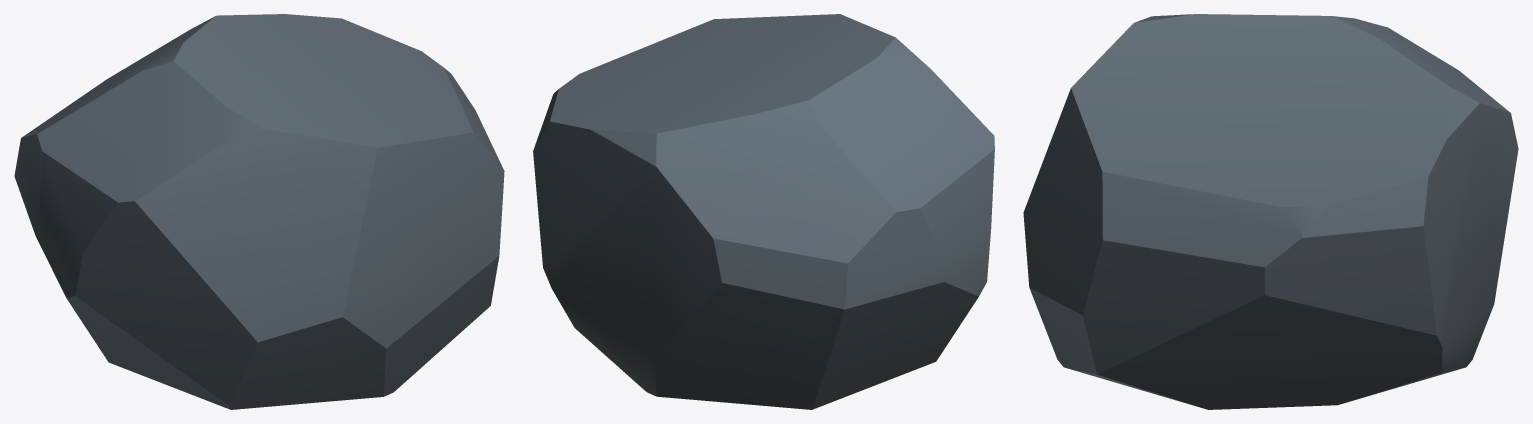
File: SM_Nature_Rock_02.fbx
The picture shows the model from 3 angles, left to right: view 1: azimuth 30°, elevation 25°; view 2: azimuth 150°, elevation 25°; view 3: azimuth 270°, elevation 25°; orthographic projection. The views are drawn at different scales.
Visible parts, largest first — view 1: SM_Nature_Rock_02_LOD0; view 2: SM_Nature_Rock_02_LOD0; view 3: SM_Nature_Rock_02_LOD0.
Boxes of the visible parts, x1=… form: SM_Nature_Rock_02_LOD0: x1=14, y1=14, x2=504, y2=409; SM_Nature_Rock_02_LOD0: x1=533, y1=14, x2=994, y2=409; SM_Nature_Rock_02_LOD0: x1=1023, y1=14, x2=1518, y2=409.
Bounding box in the file's own units: 99.96 × 63.39 × 94.23.
